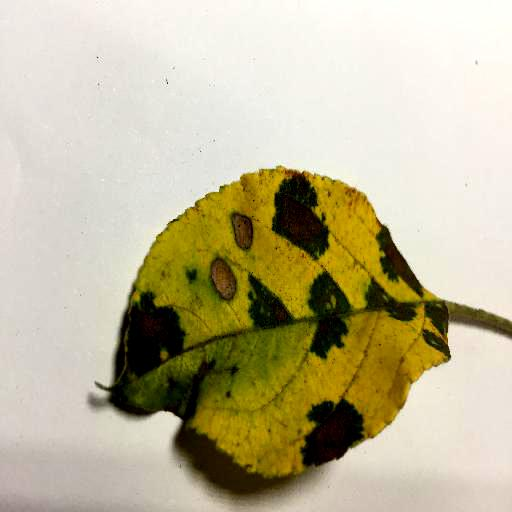Brown_Spot: (279, 193, 326, 248), (308, 402, 348, 459), (131, 306, 173, 360), (187, 362, 210, 403), (210, 257, 233, 293), (384, 247, 408, 281), (229, 213, 250, 248), (273, 309, 290, 320)
